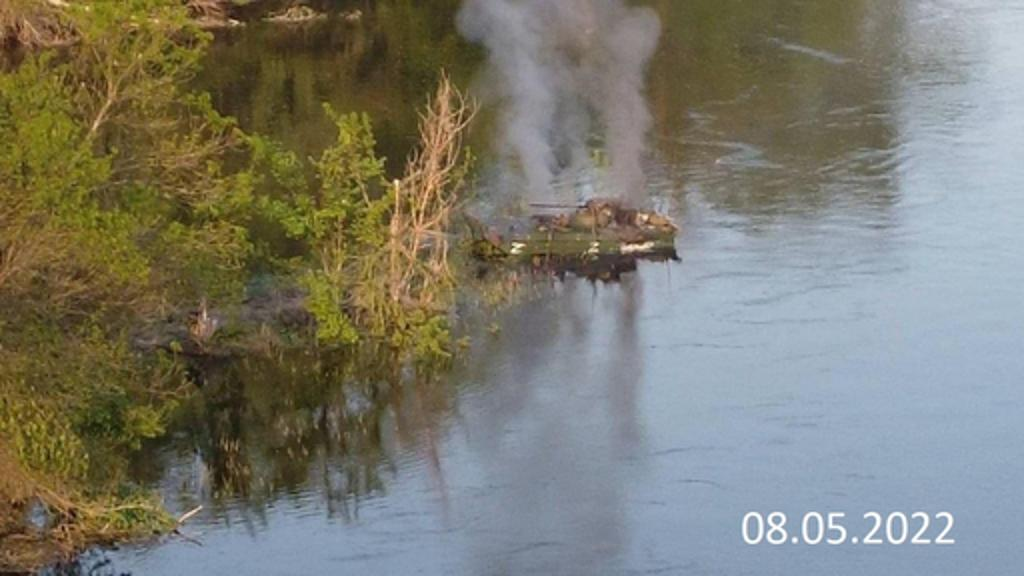APC-IFV: (464, 190, 682, 278)
